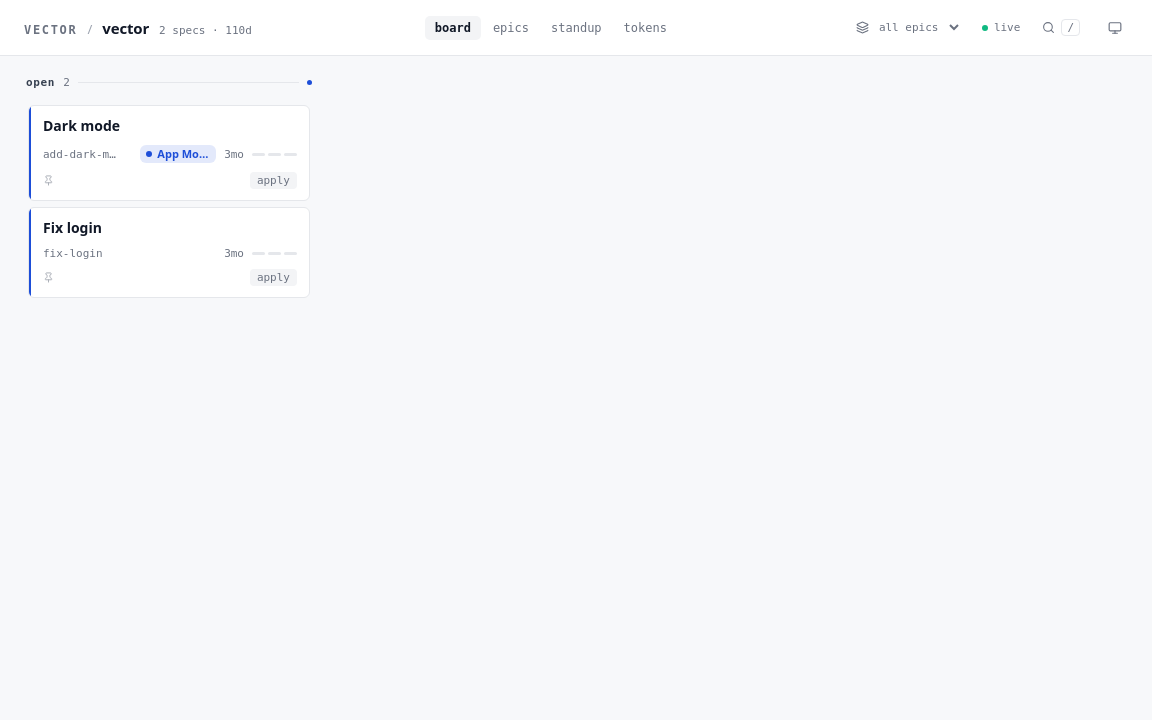
App epic filter and epics view › opens the details drawer from a spec listed in the epics tab
Click the button "epics": (511, 28) [483,16,539,40]
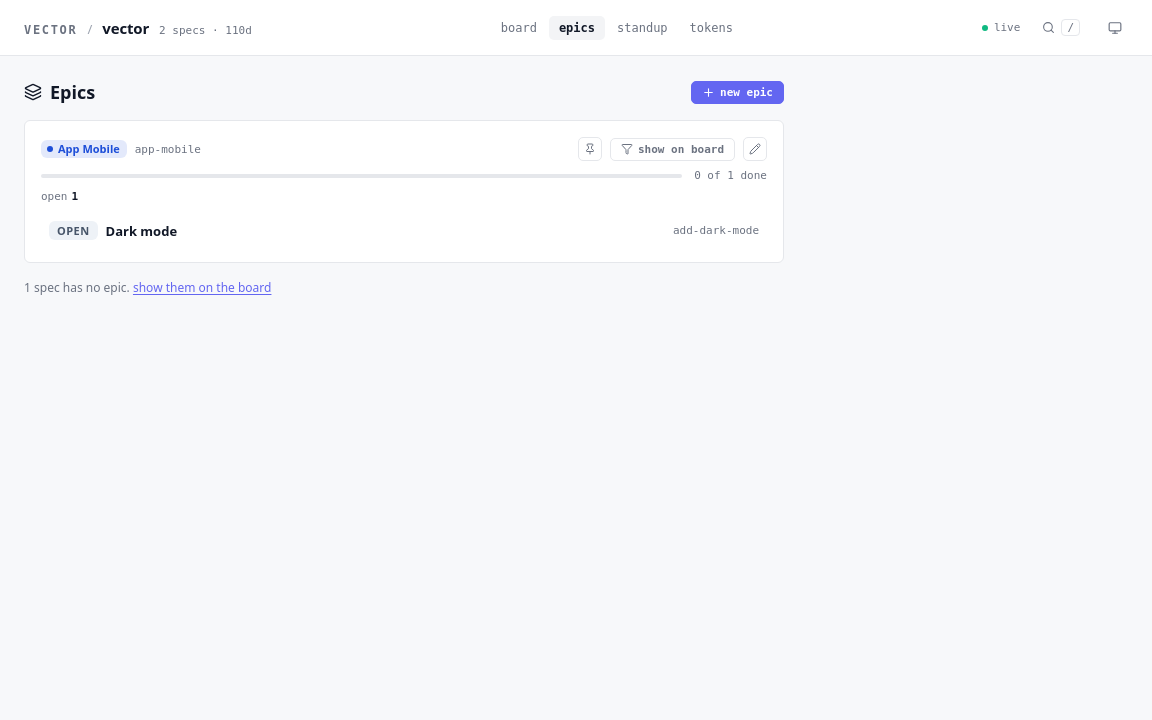
Click the button with aria-label "Open details for Dark mode": (73, 230) [41,215,767,246]
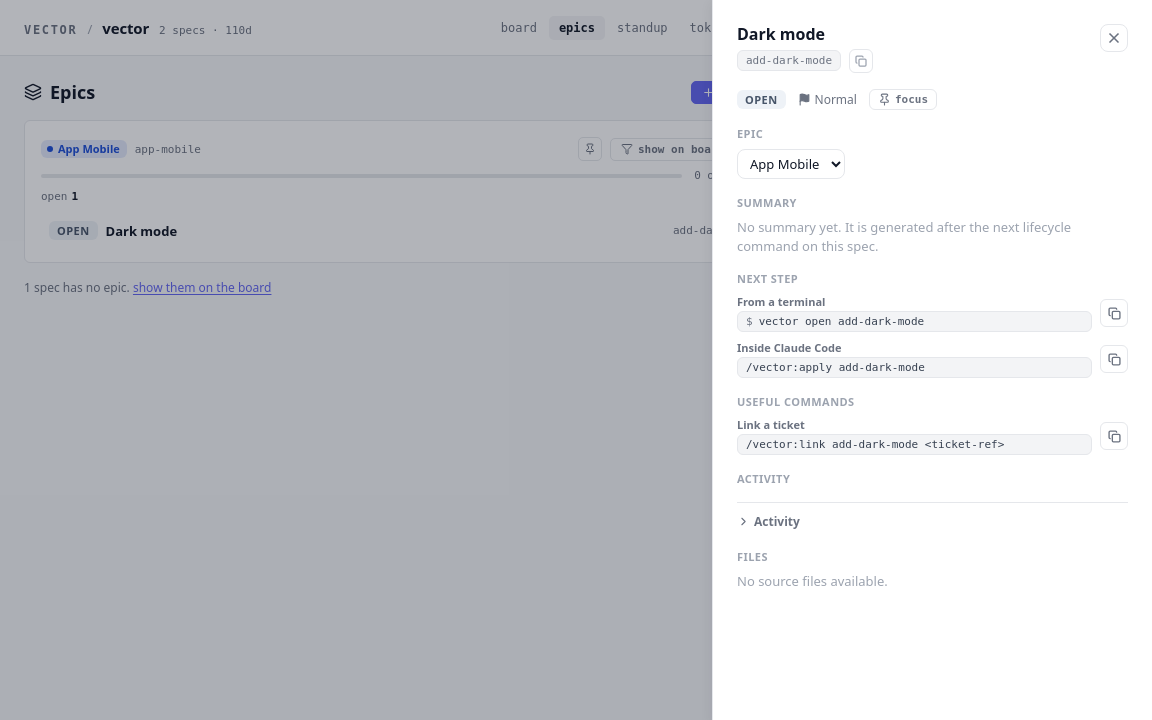
Expected: the dialog named "Details for Dark mode" is shown, [712,0,1151,719]
